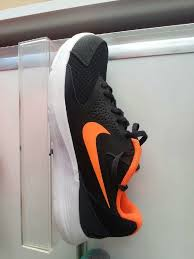nike: (85, 121, 113, 209)
